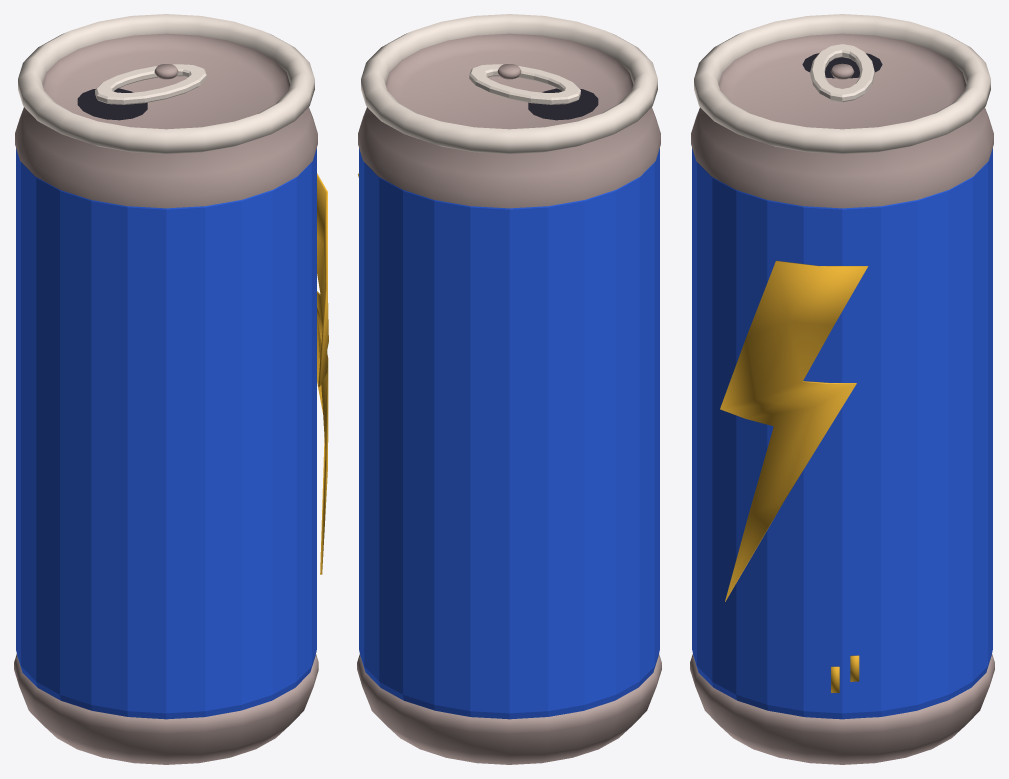
File: pick.energy-drink.glb
3 renders of one model, left to right at view 1: azimuth 30°, elevation 25°; view 2: azimuth 150°, elevation 25°; view 3: azimuth 270°, elevation 25°, orthographic.
Bounding box in the file's own units: 0.157 × 0.354 × 0.152.
